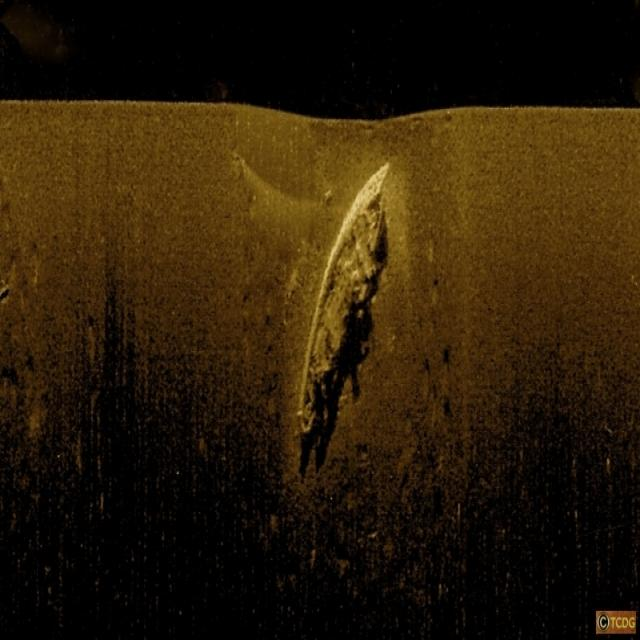ship: (297, 160, 393, 438)
